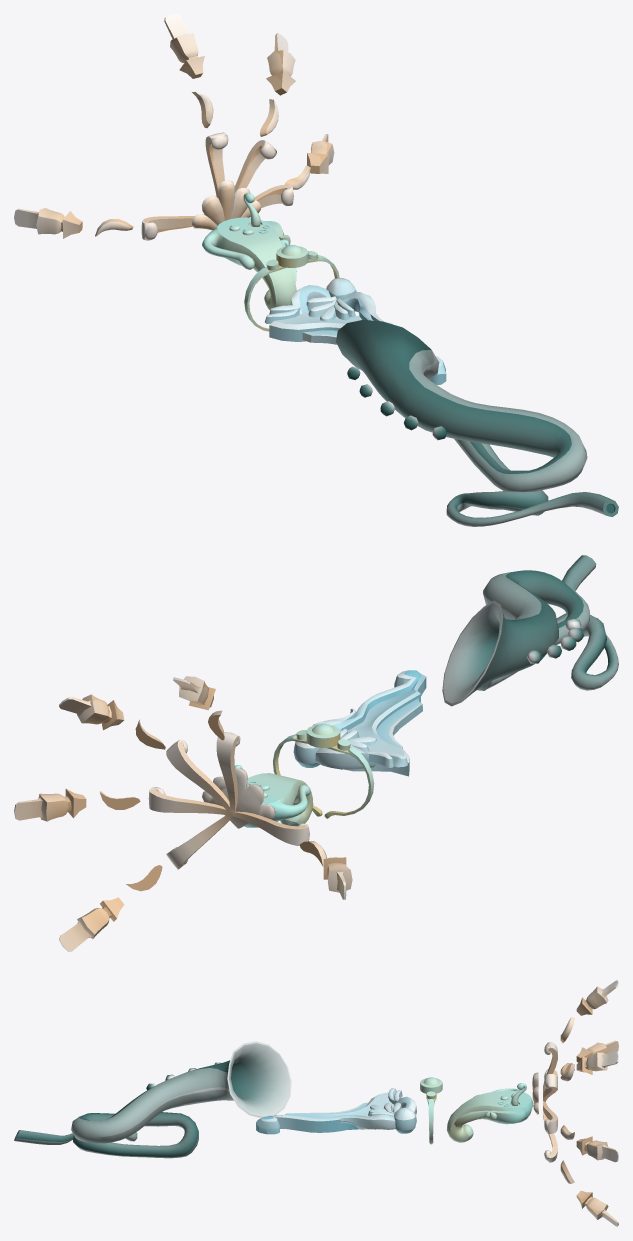
The model's file is Arm_Emotion_A.fbx.
3 renders of one model, top to bottom at view 1: azimuth 30°, elevation 25°; view 2: azimuth 150°, elevation 25°; view 3: azimuth 270°, elevation 25°, orthographic. The views are drawn at different scales.
Parts seen in each view (by area): view 1: Trumpet, Frame, Controller, finger_1, finger_5, finger_2, Plam, finger_3, Wristband; view 2: Trumpet, Frame, finger_3, finger_2, finger_4, finger_1, finger_5, Controller, Wristband, Plam; view 3: Trumpet, Frame, Controller, finger_3, finger_1, finger_2, finger_4, Wristband, finger_5.
Boxes of the visible parts, box(x1,y1,x2,y2) form: Trumpet: box(336, 320, 618, 526); Frame: box(265, 277, 446, 384); Controller: box(202, 193, 296, 309); finger_1: box(164, 14, 228, 198); finger_5: box(14, 208, 194, 240); finger_2: box(234, 33, 295, 192); Plam: box(192, 180, 260, 230); finger_3: box(254, 134, 334, 208); Wristband: box(244, 245, 339, 331); Trumpet: box(442, 555, 618, 706); Frame: box(293, 670, 426, 776); finger_3: box(14, 787, 232, 821); finger_2: box(59, 694, 233, 814); finger_4: box(59, 812, 233, 951); finger_1: box(173, 676, 240, 814); finger_5: box(232, 811, 352, 899); Controller: box(235, 765, 313, 827); Wristband: box(273, 723, 374, 818); Plam: box(202, 768, 275, 828); Trumpet: box(14, 1041, 291, 1158); Frame: box(256, 1088, 416, 1134); Controller: box(446, 1083, 533, 1142); finger_3: box(543, 1101, 618, 1162); finger_1: box(543, 980, 618, 1093); finger_2: box(543, 1051, 618, 1101); finger_4: box(543, 1111, 618, 1226); Wristband: box(420, 1077, 442, 1144); finger_5: box(544, 1040, 618, 1079).
Bounding box in the file's own units: 32.21 × 27.89 × 73.78.
